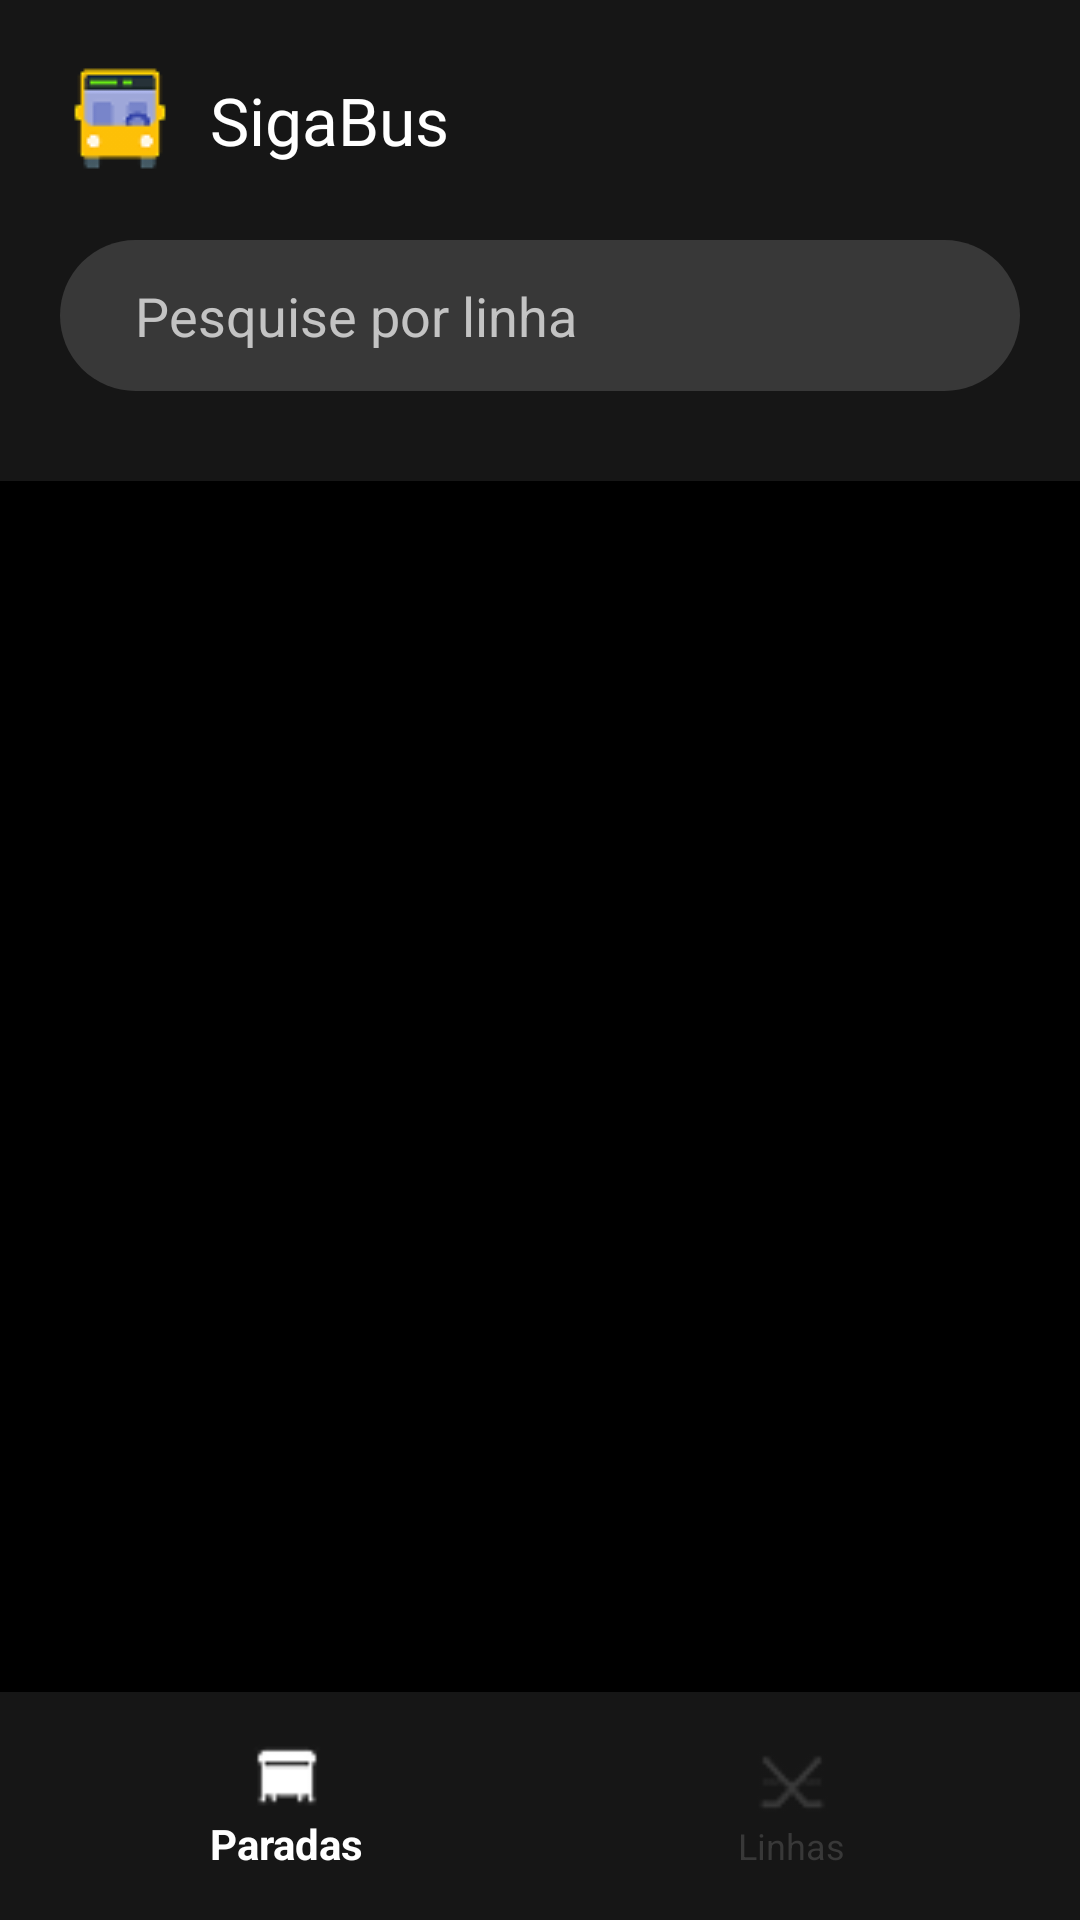

Point at icon controls on the screen. Image size 1080px x 1920px, points as (x,y).
bus: (120,118)
